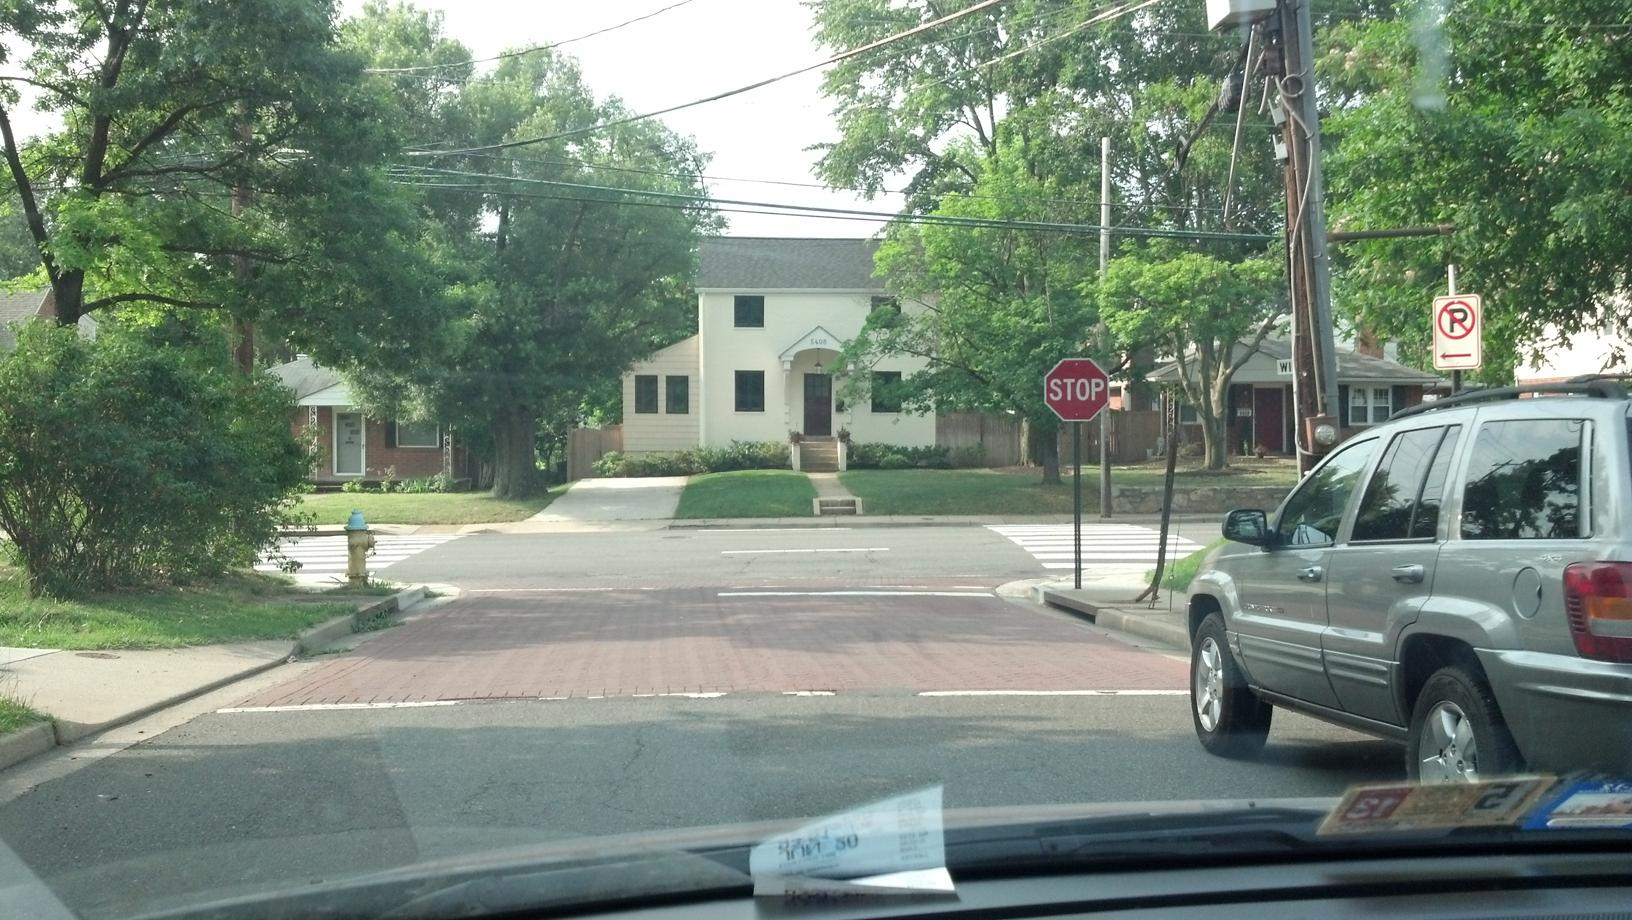car: (1202, 421, 1632, 807)
stop: (1044, 349, 1112, 422)
